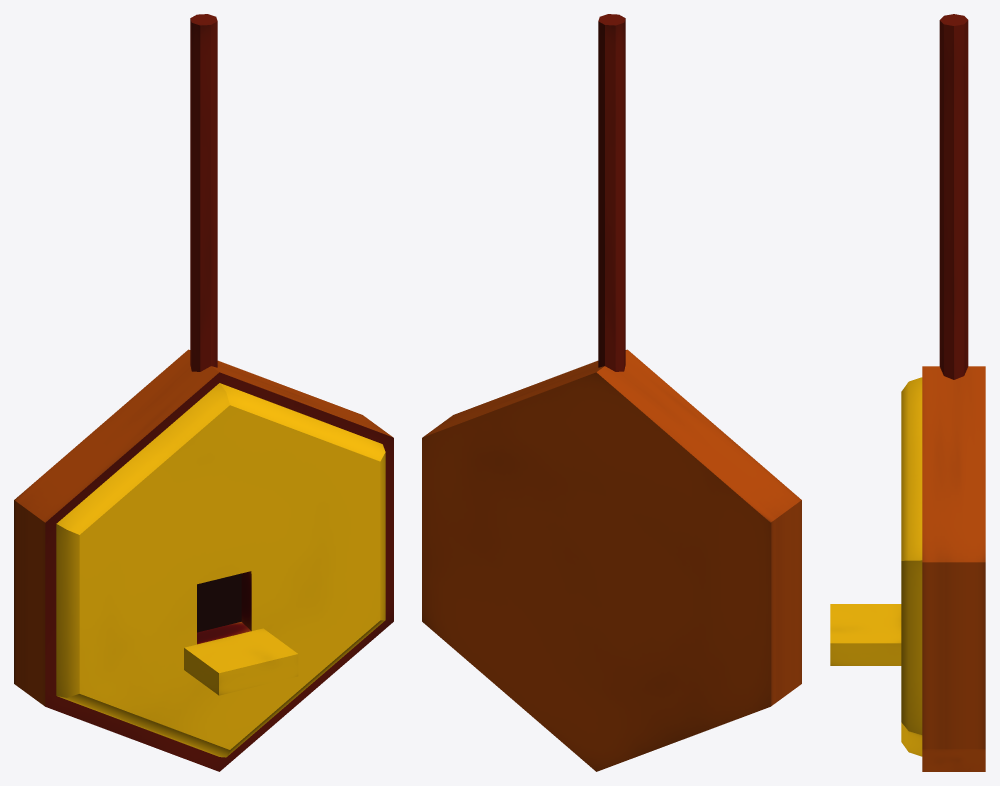
File: honey_final01.fbx
3 renders of one model, left to right at view 1: azimuth 30°, elevation 25°; view 2: azimuth 150°, elevation 25°; view 3: azimuth 270°, elevation 25°, orthographic.
Visible parts, largest first — view 1: polySurface2; view 2: polySurface2; view 3: polySurface2.
Part boxes in pixels (x1,y1,x2,y2): polySurface2: [14, 14, 393, 771]; polySurface2: [422, 14, 801, 771]; polySurface2: [830, 14, 985, 771].
Size of the model in its own units: 4.76 by 9.67 by 1.81.
Materials: 1 (1 with a texture image).
